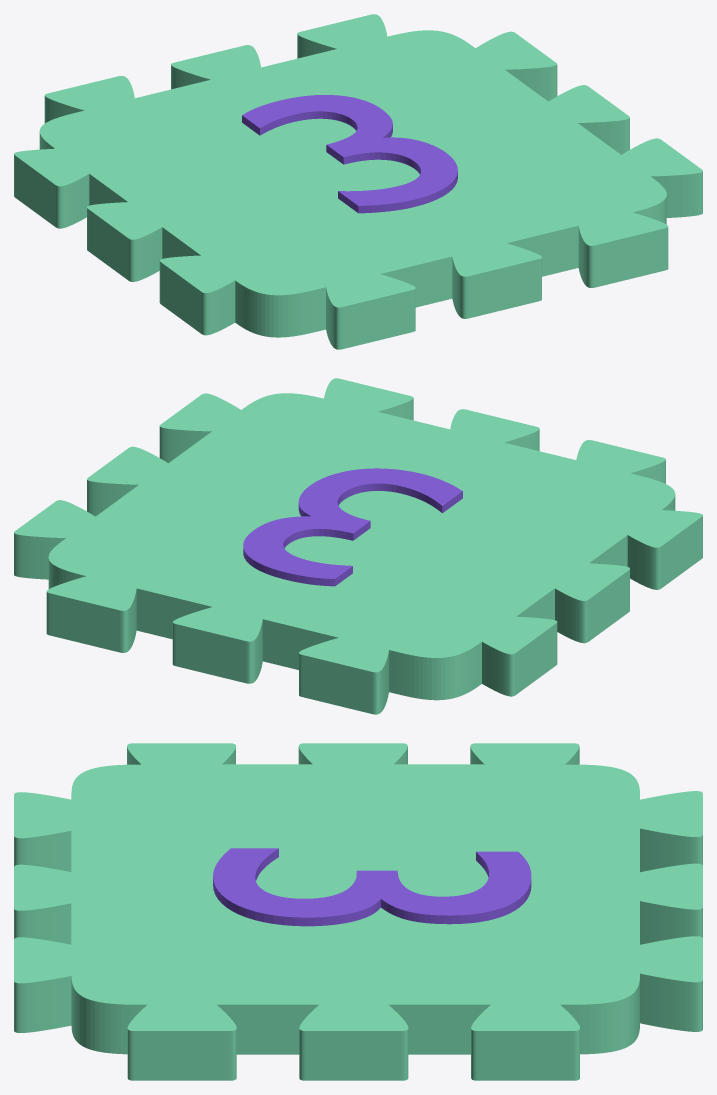
File: puzzel_3_update.fbx
3 renders of one model, top to bottom at view 1: azimuth 30°, elevation 25°; view 2: azimuth 150°, elevation 25°; view 3: azimuth 270°, elevation 25°, orthographic. The views are drawn at different scales.
Visible parts, largest first — view 1: Text; view 2: Text; view 3: Text.
Boxes of the visible parts, x1,y1,x2,y2 form: Text: [14, 14, 702, 349]; Text: [14, 378, 702, 714]; Text: [14, 743, 702, 1080].
Size of the model in its own units: 239 by 22.66 by 242.
